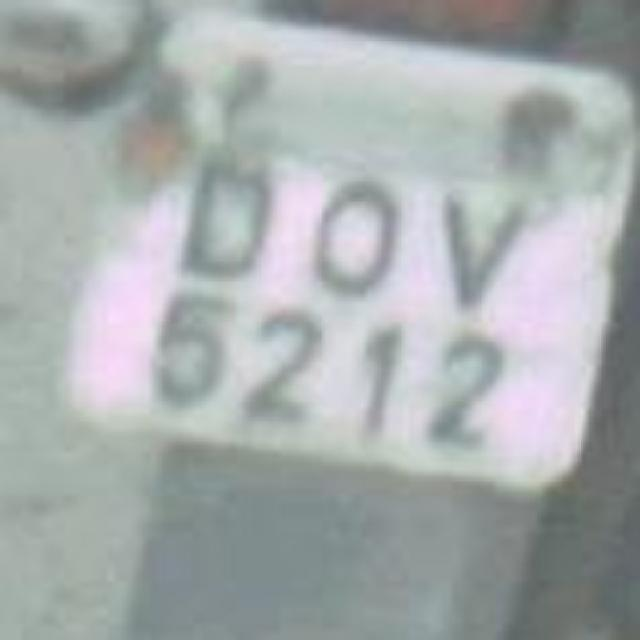1: (328, 300, 408, 445)
2: (391, 324, 524, 464), (224, 289, 336, 436)
6: (132, 280, 240, 415)
O: (296, 160, 412, 305)
Y: (428, 171, 548, 324)
